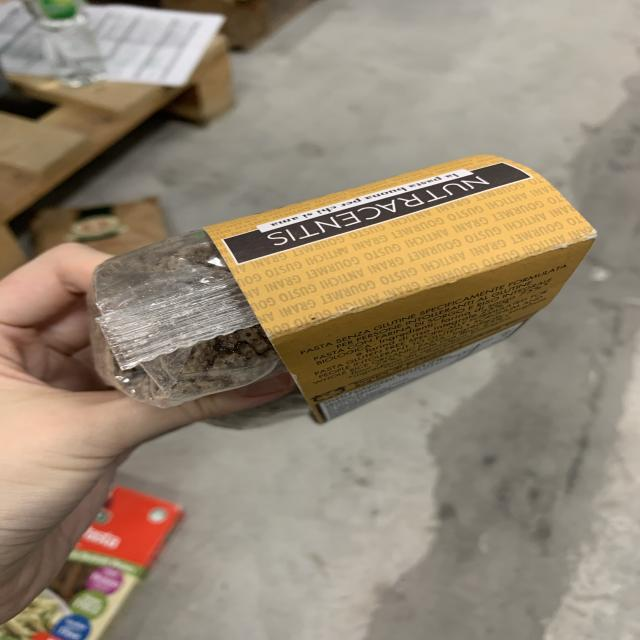object_name: (91, 160, 576, 374)
